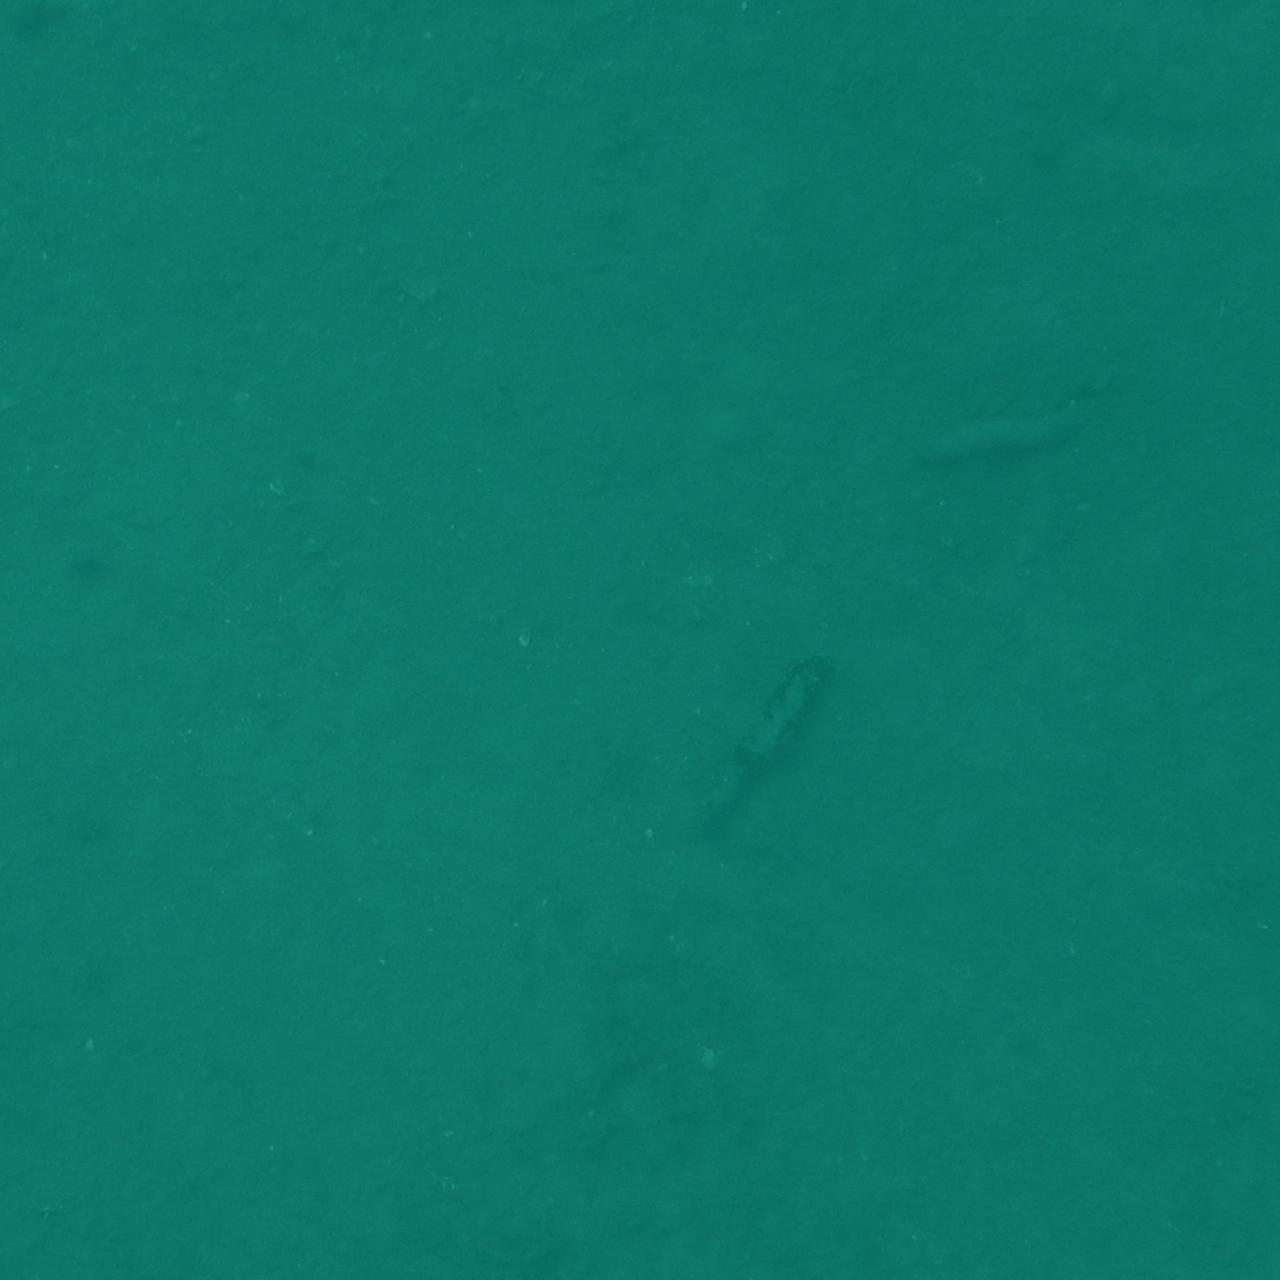Holothuria tubulosa: (669, 647, 849, 847), (48, 1156, 288, 1280), (888, 380, 1101, 481), (0, 1096, 98, 1253), (774, 0, 962, 79), (646, 0, 891, 56), (1101, 1208, 1280, 1280), (1145, 1191, 1280, 1280), (358, 1172, 443, 1280), (0, 1153, 66, 1280)
